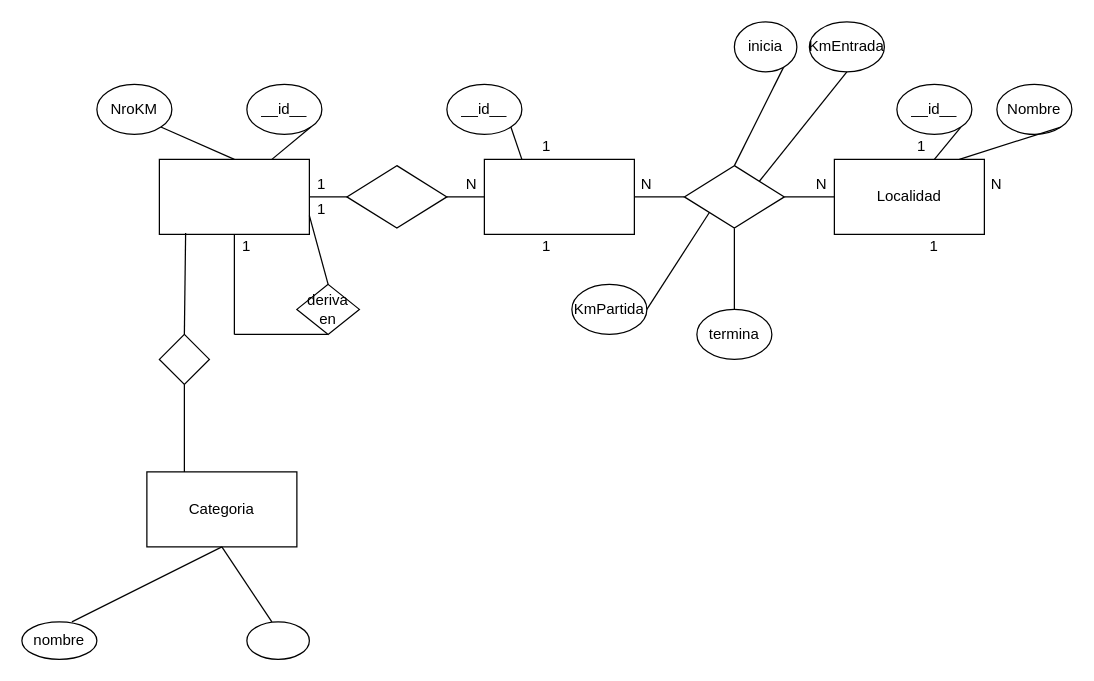
Some shapes in this 1094 by 681 pixel diagram are drawn without their labels. The box of each missing label's shape, as (x1, y1, x2, y2) in pixels:
es propiedad: (158, 333, 209, 384)
id_: (246, 621, 309, 659)
pasa por: (683, 164, 784, 228)
pertenece: (346, 164, 447, 228)
Ruta: (158, 158, 309, 234)
Tramo: (483, 158, 634, 234)
